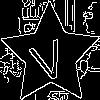V: (25, 30, 70, 84)
